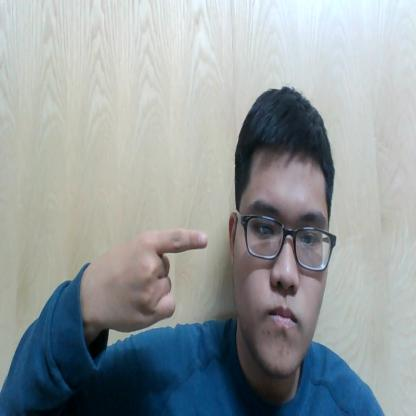left: (94, 216, 212, 333)
